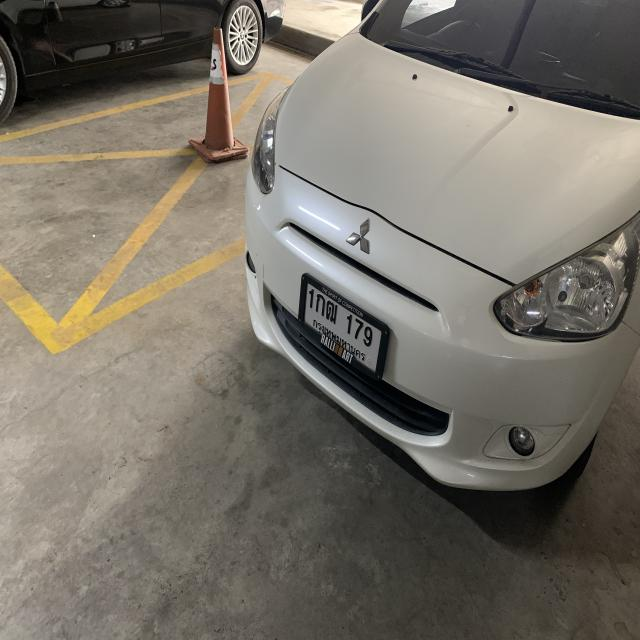license_plate: (300, 269, 384, 381)
